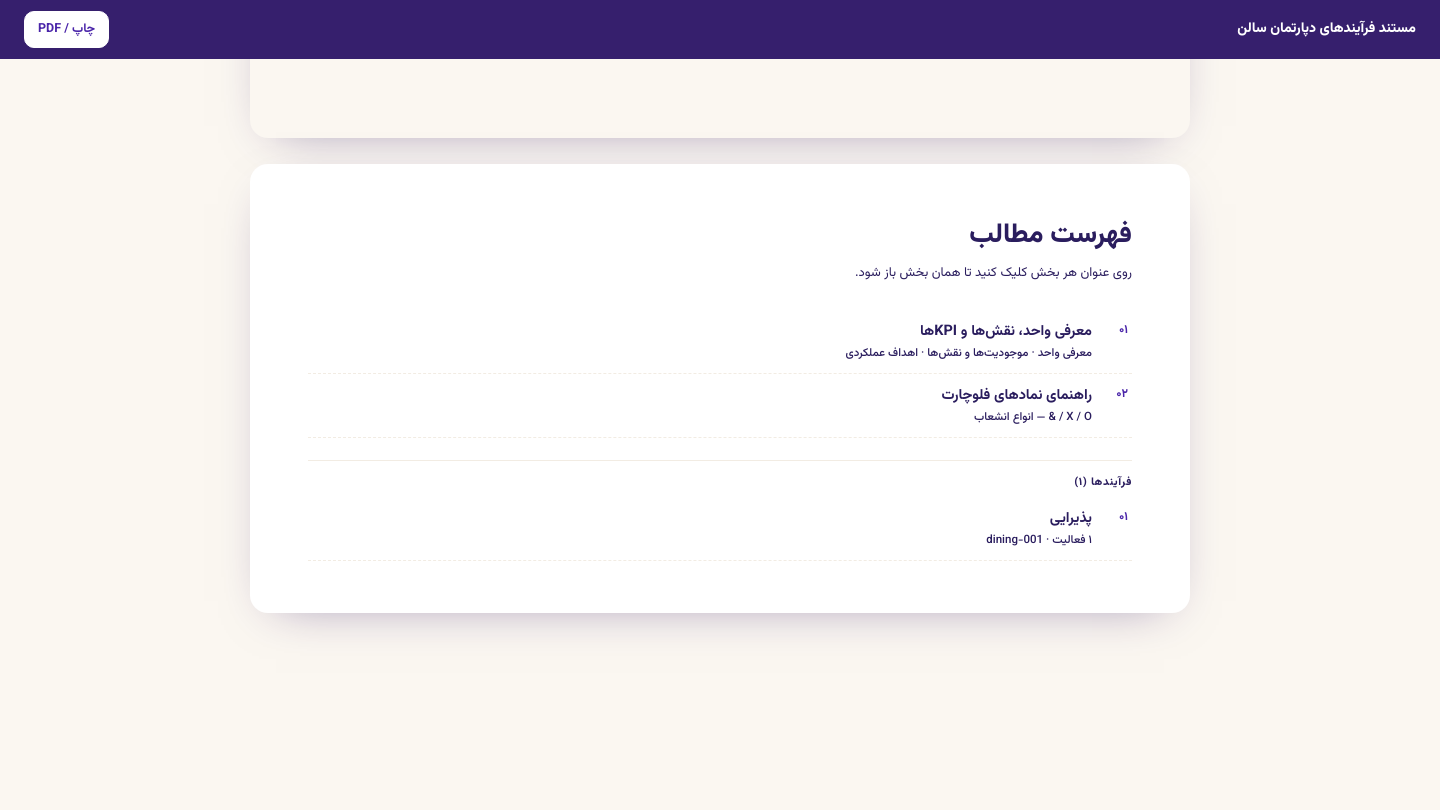
Test: Document › opens the symbol legend
(page scrolled)
Click the text "راهنمای نمادهای فلوچارت" at (1017, 405), box [941,384,1092,426]
(page scrolled)
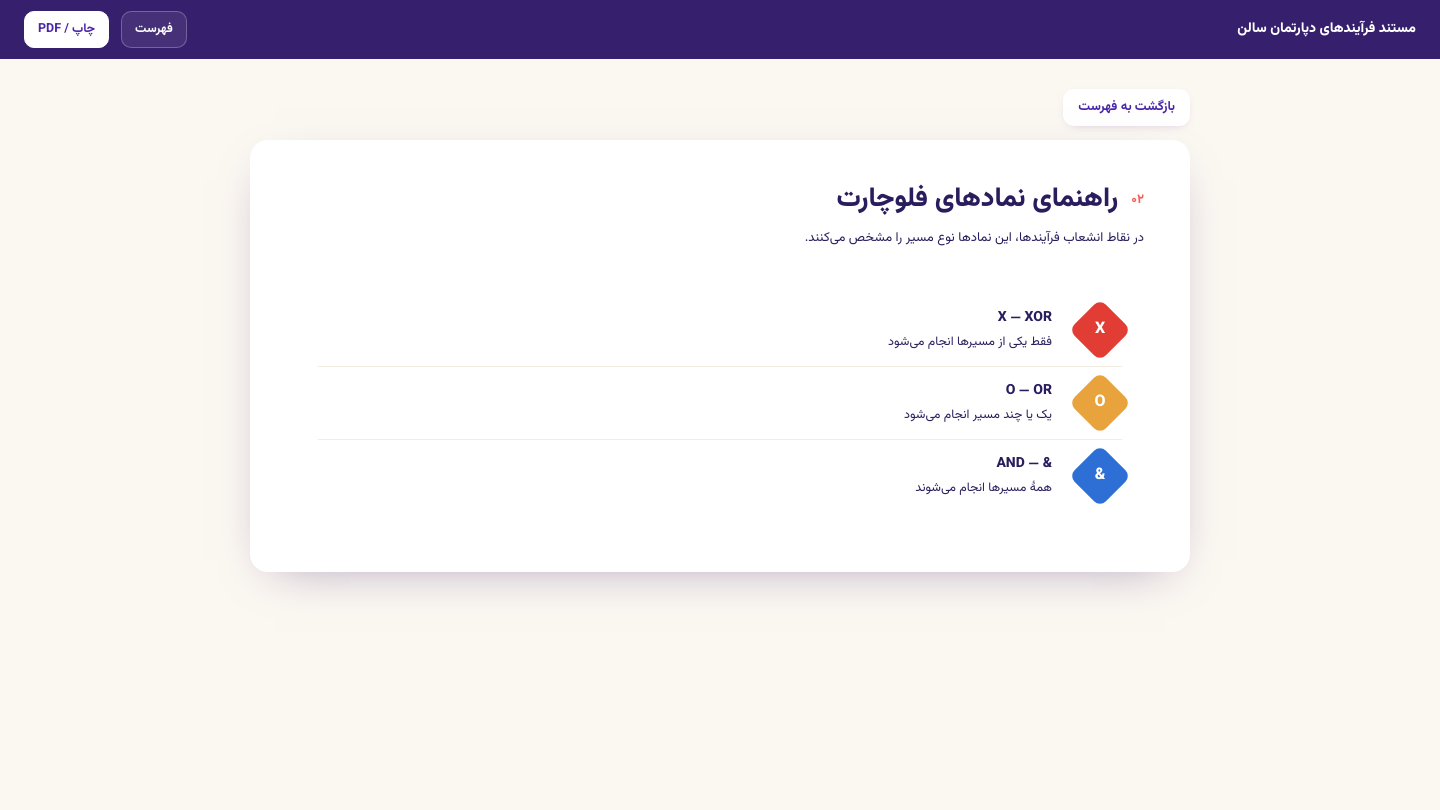
Now the text "فقط یکی از مسیرها انجام می‌شود" is shown, box [888,333,1052,352]
Now the text "یک یا چند مسیر انجام می‌شود" is shown, box [904,406,1052,425]
Now the text "همهٔ مسیرها انجام می‌شوند" is shown, box [915,479,1052,498]
